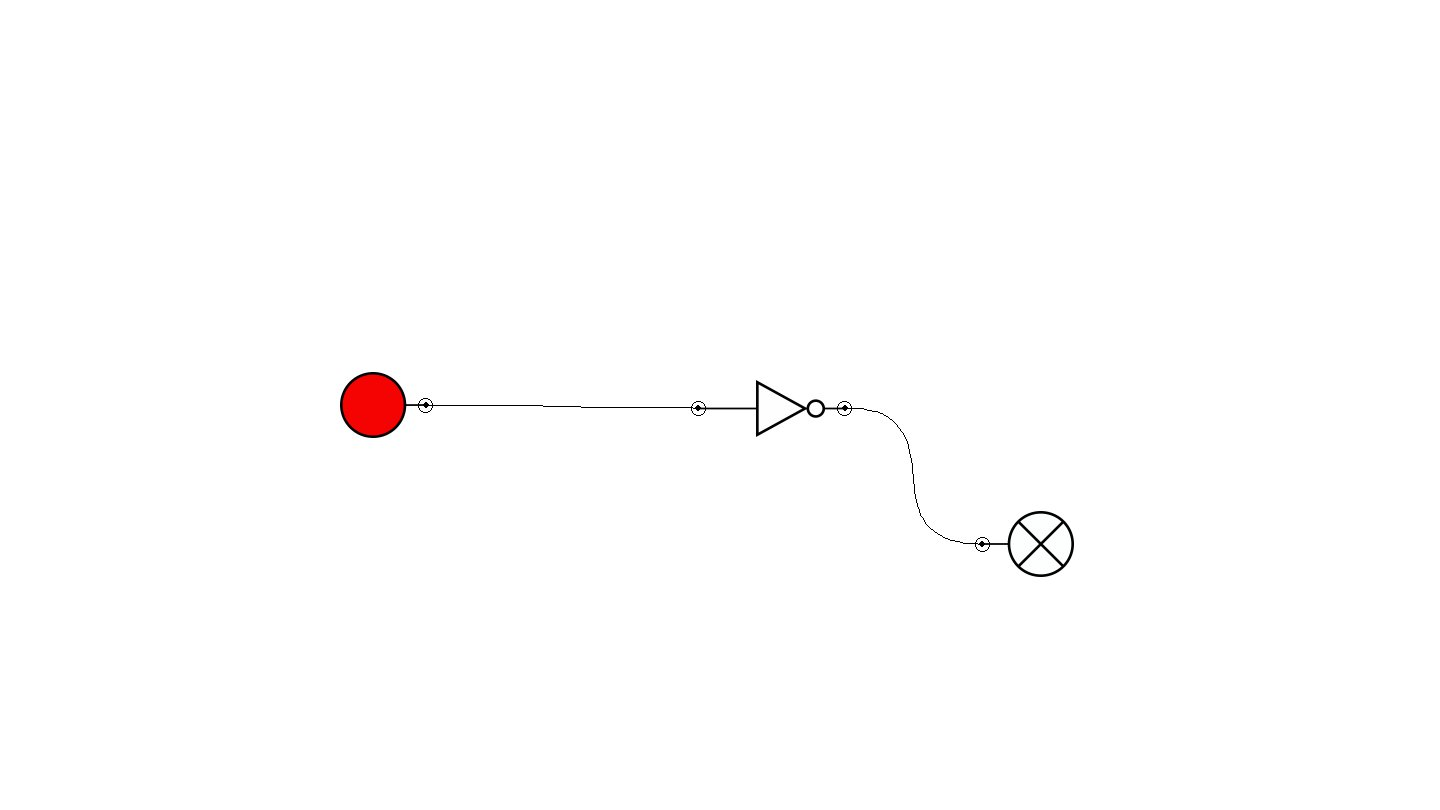bulb: (975, 511, 1074, 577)
not: (691, 380, 852, 437)
switch_False: (340, 372, 433, 438)
